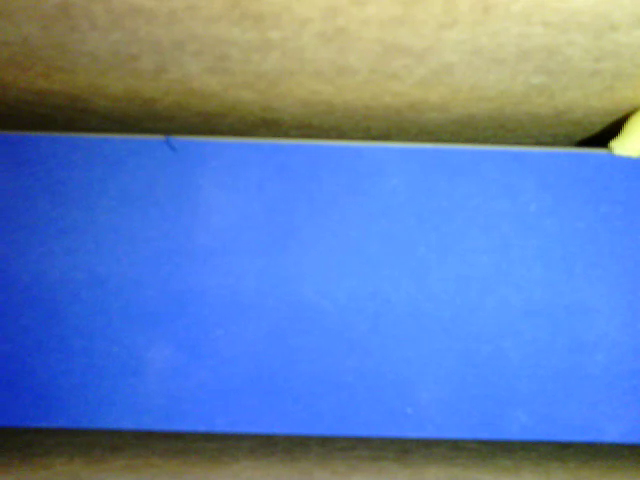shell: (609, 109, 639, 158)
